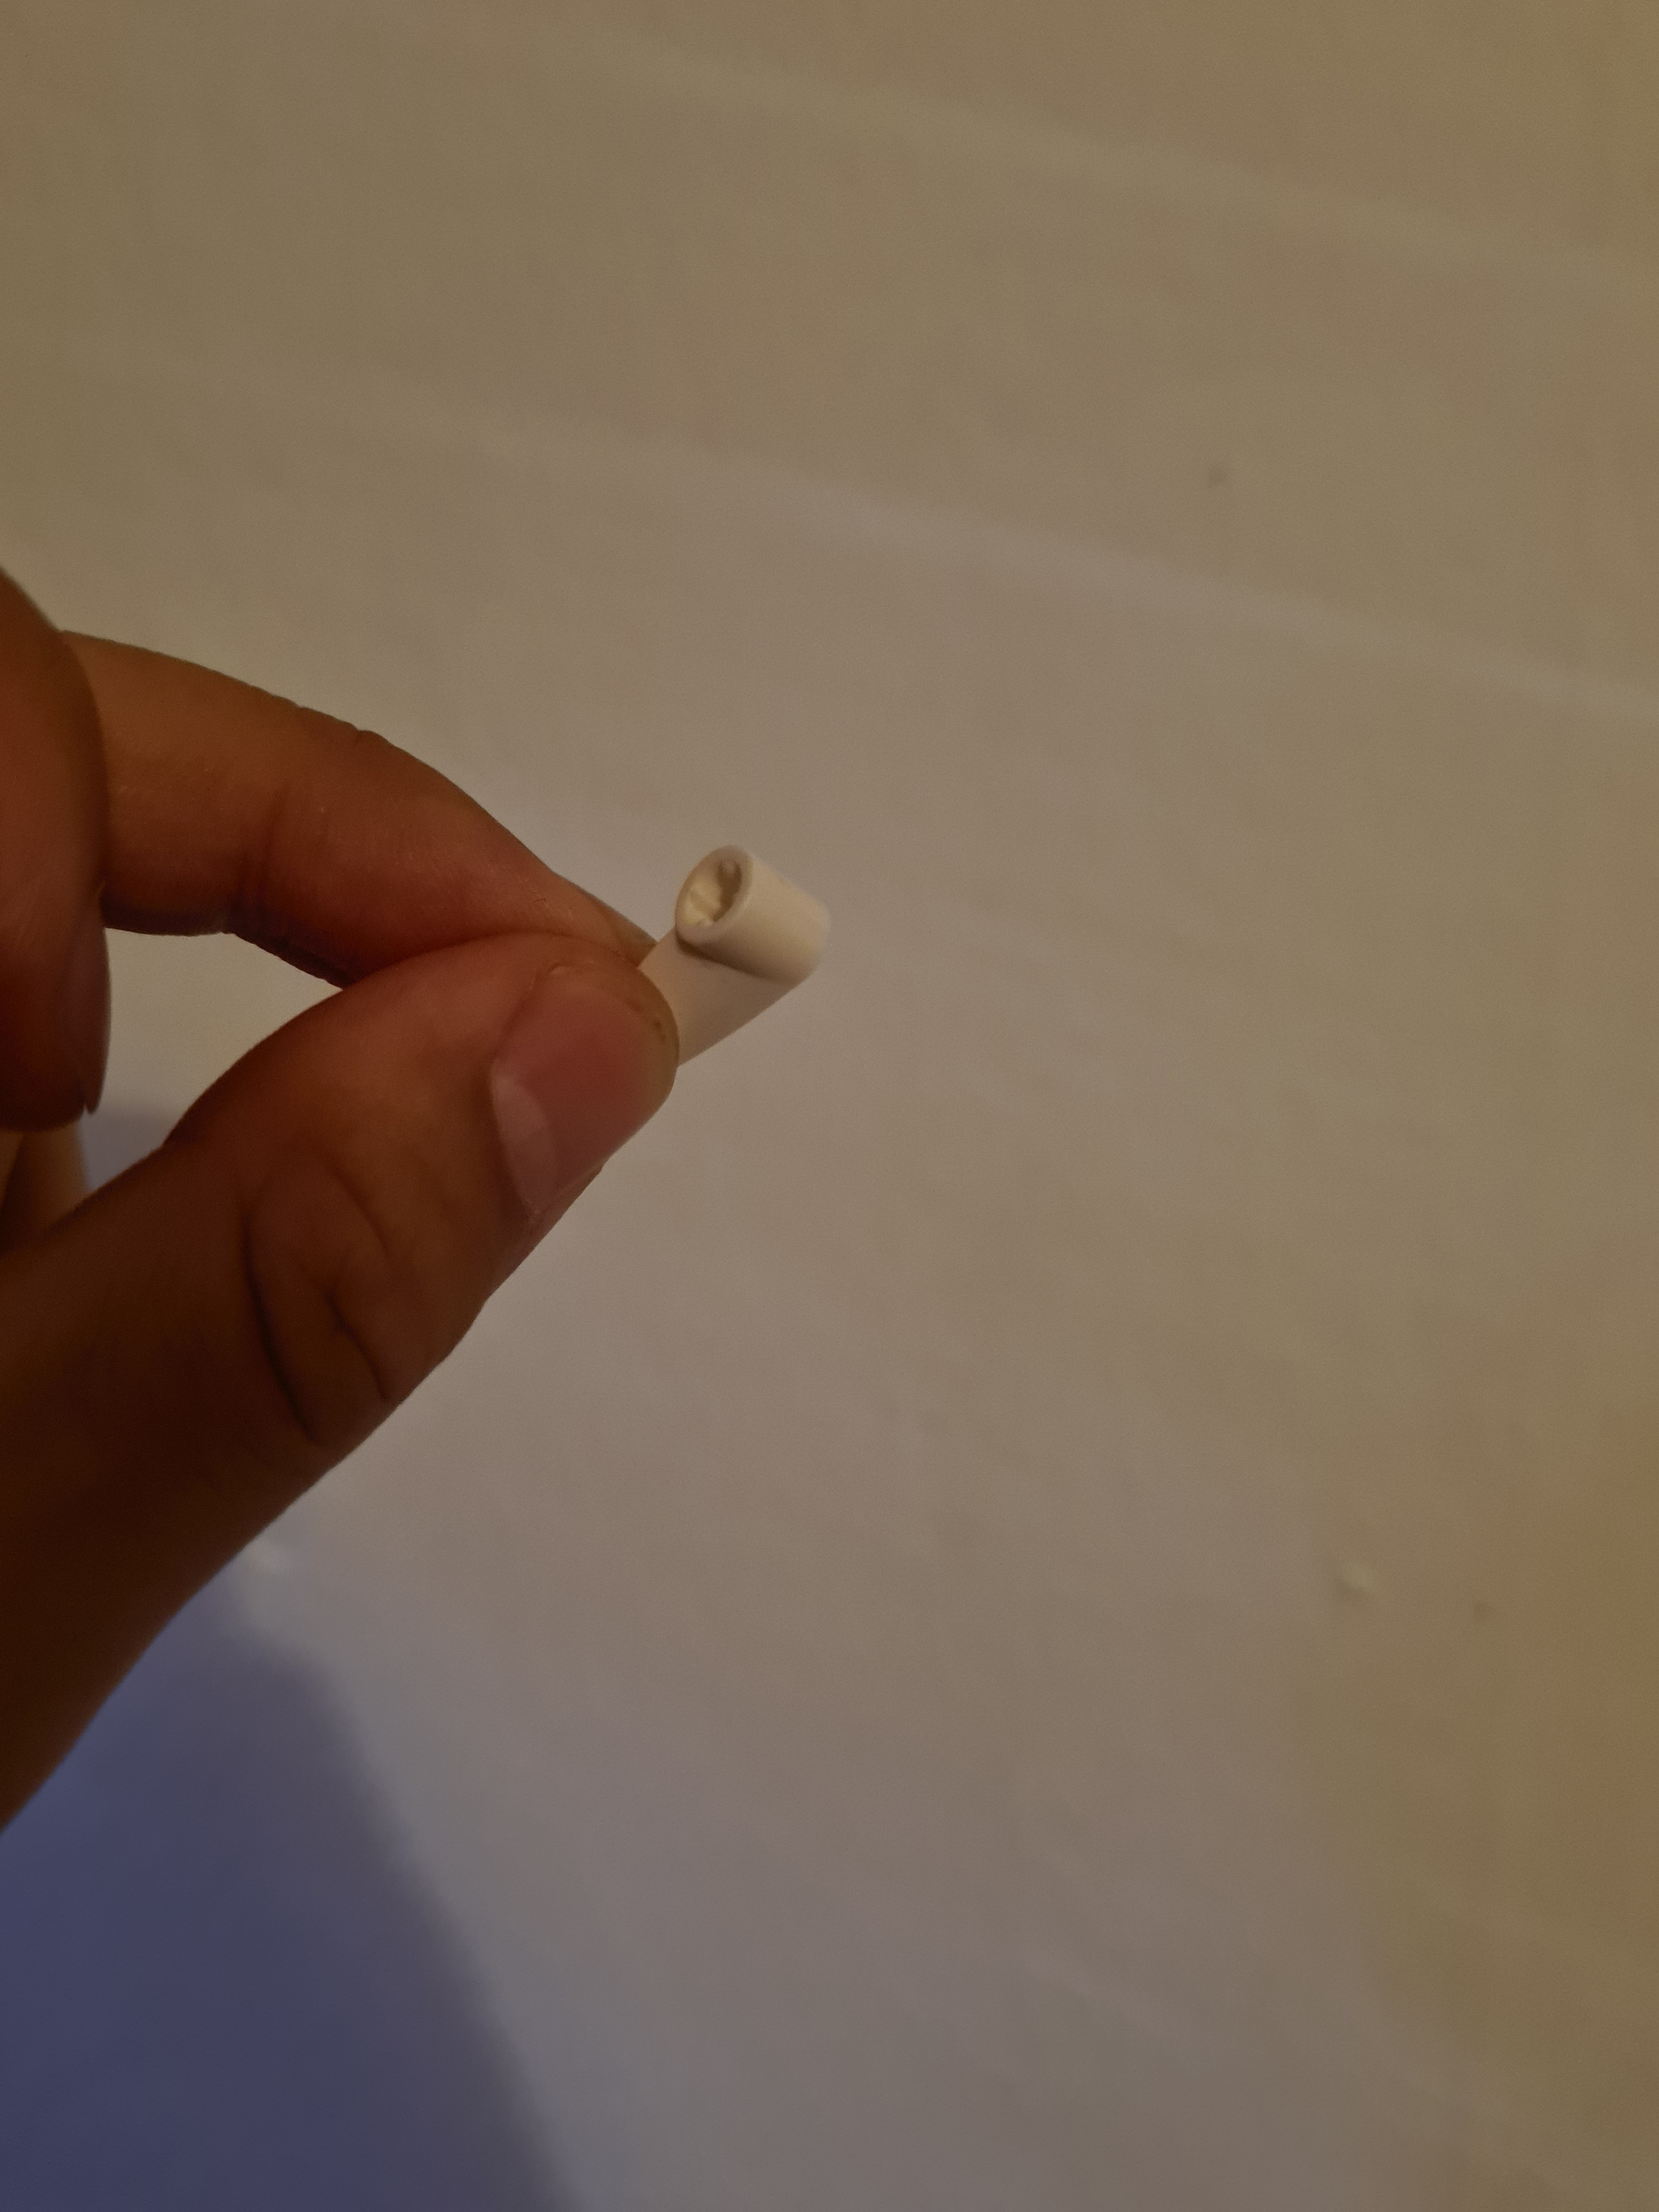Kappe: (613, 838, 830, 1101)
